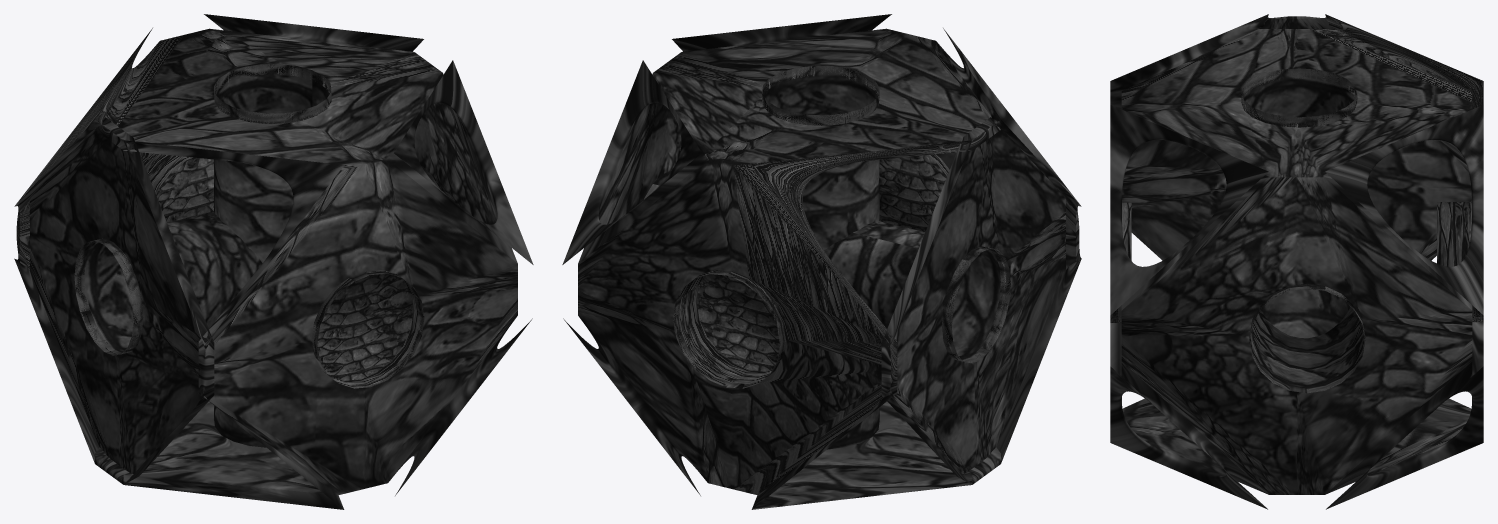
File: black.obj
3 renders of one model, left to right at view 1: azimuth 30°, elevation 25°; view 2: azimuth 150°, elevation 25°; view 3: azimuth 270°, elevation 25°, orthographic.
Visible parts, largest first — view 1: pCube5; view 2: pCube5; view 3: pCube5.
Boxes of the visible parts, x1,y1,x2,y2 form: pCube5: (14,14,533,509); pCube5: (562,14,1081,509); pCube5: (1110,14,1483,509).
Size of the model in its own units: 0.986 by 0.986 by 0.986.
Materials: 1 (1 with a texture image).
